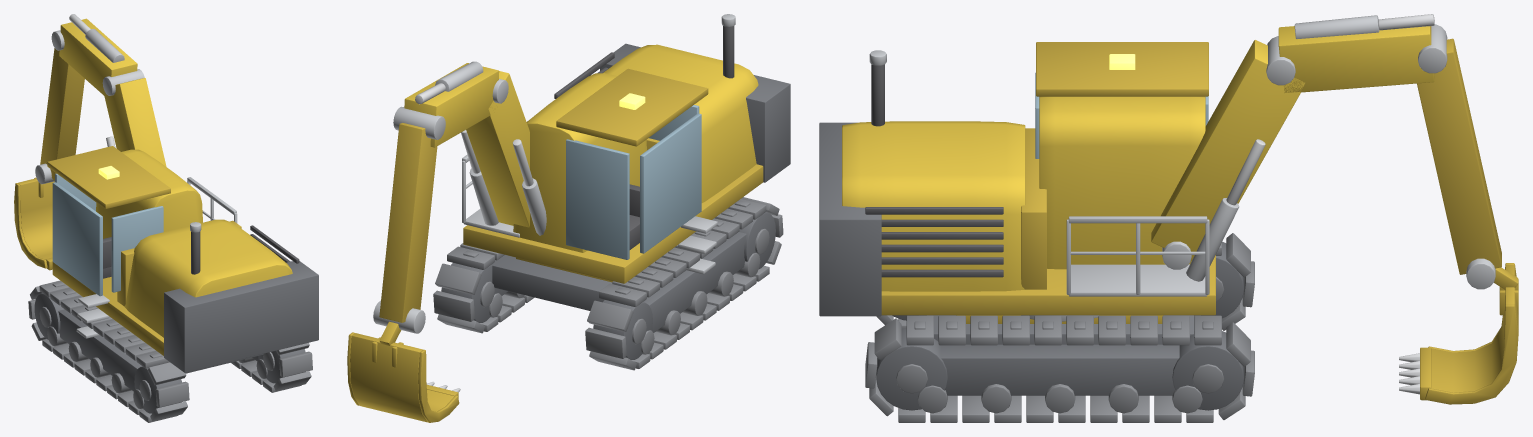
Rendered from th21_bagger.glb.
3 renders of one model, left to right at view 1: azimuth 30°, elevation 25°; view 2: azimuth 150°, elevation 25°; view 3: azimuth 270°, elevation 25°, orthographic. The views are drawn at different scales.
Parts seen in each view (by area): view 1: Cube.077, Motorhaube, Cube.087, Cube.085, Cube.104, Kabine, Cube.102, Cube.103, Loeffelschale, Cube, Cube.089, Cube.076 (+20 smaller); view 2: Motorhaube, Cube.104, Cube.086, Kabine, Cube.085, Cube.087, Cube.076, Cube.102, Loeffelschale, Cube.077, Cube.074, Cube.103 (+25 smaller); view 3: Motorhaube, Kabine, Cube.102, Cube.037, Cube.104, Cube.085, Cube.077, Cube.076, Cube.103, Cube.096, Loeffelschale, Cube.084 (+44 smaller).
Part boxes in pixels (<box>): Cube.077: <box>164,261,318,372</box>; Motorhaube: <box>124,219,292,337</box>; Cube.087: <box>52,182,102,296</box>; Cube.085: <box>47,146,170,208</box>; Cube.104: <box>40,48,84,180</box>; Kabine: <box>96,149,202,238</box>; Cube.102: <box>102,78,166,166</box>; Cube.103: <box>59,18,137,95</box>; Loeffelschale: <box>18,178,54,259</box>; Cube: <box>58,309,141,391</box>; Cube.089: <box>111,206,163,292</box>; Cube.076: <box>52,262,163,355</box>; Motorhaube: <box>603,44,758,202</box>; Cube.104: <box>379,123,437,322</box>; Cube.086: <box>566,139,629,259</box>; Kabine: <box>513,73,646,252</box>; Cube.085: <box>556,68,708,146</box>; Cube.087: <box>640,113,701,253</box>; Cube.076: <box>463,164,763,283</box>; Cube.102: <box>466,71,529,227</box>; Loeffelschale: <box>350,333,453,422</box>; Cube.077: <box>600,43,790,182</box>; Cube.074: <box>491,255,612,310</box>; Cube.103: <box>404,63,499,147</box>; Motorhaube: <box>842,121,1025,291</box>; Kabine: <box>1039,96,1205,269</box>; Cube.102: <box>1151,40,1304,260</box>; Cube.037: <box>940,344,1179,395</box>; Cube.104: <box>1417,38,1501,274</box>; Cube.085: <box>1036,42,1208,96</box>; Cube.077: <box>819,122,881,316</box>; Cube.076: <box>881,255,1215,315</box>; Cube.103: <box>1278,26,1434,92</box>; Cube.096: <box>1068,264,1207,296</box>; Loeffelschale: <box>1431,264,1518,392</box>; Cube.084: <box>1021,128,1046,289</box>.
Size of the model in its own units: 3.22 by 4.76 by 8.07.
